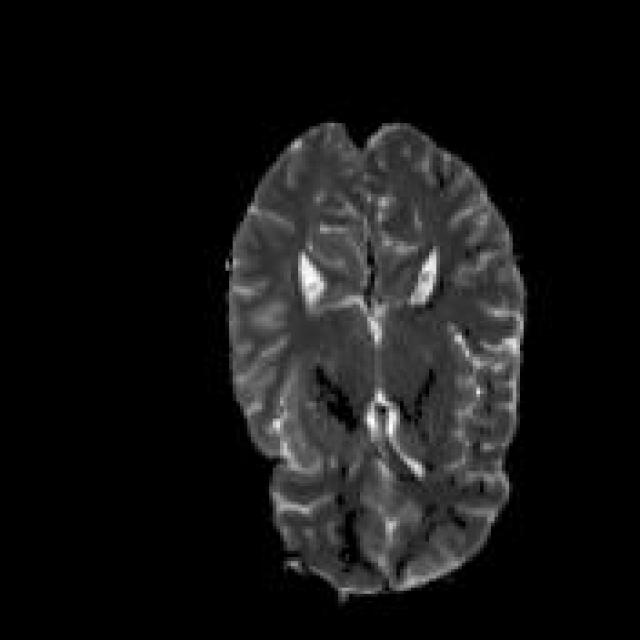parkinson: (222, 117, 527, 600)
